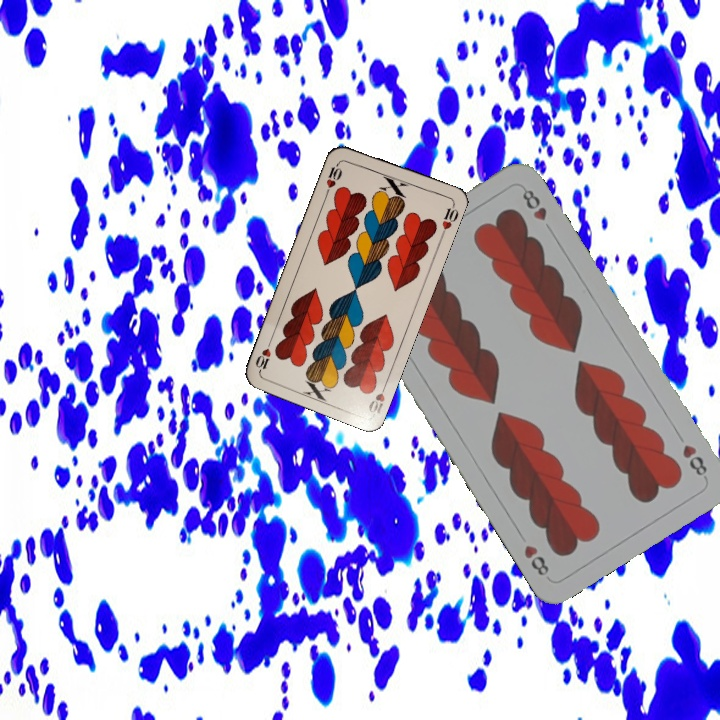H10: (364, 378, 390, 416), (322, 158, 345, 197)
H8: (678, 440, 710, 482)
